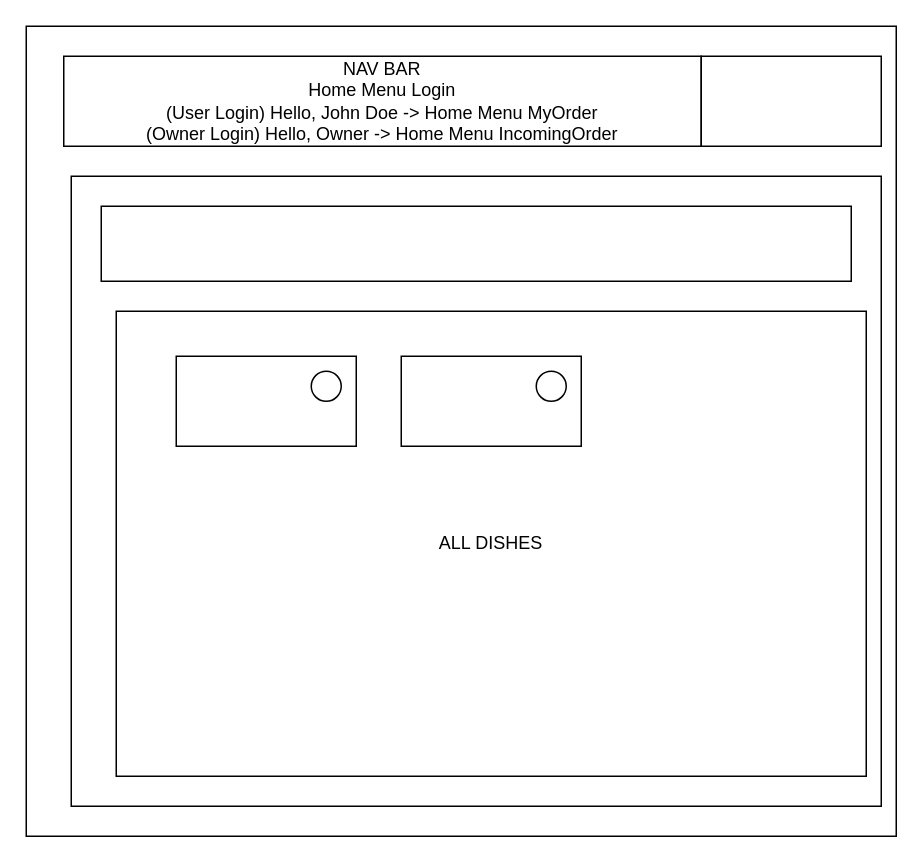
Some shapes in this 923 by 863 pixel diagram are drawn without their labels. The centre of each missing label's shape, as x and y in pixels:
"My current Order (if on myOrder page) - same as tinyapp" belongs at (x=475, y=243).
"Order Here (shopping cart icon)" belongs at (x=790, y=100).
